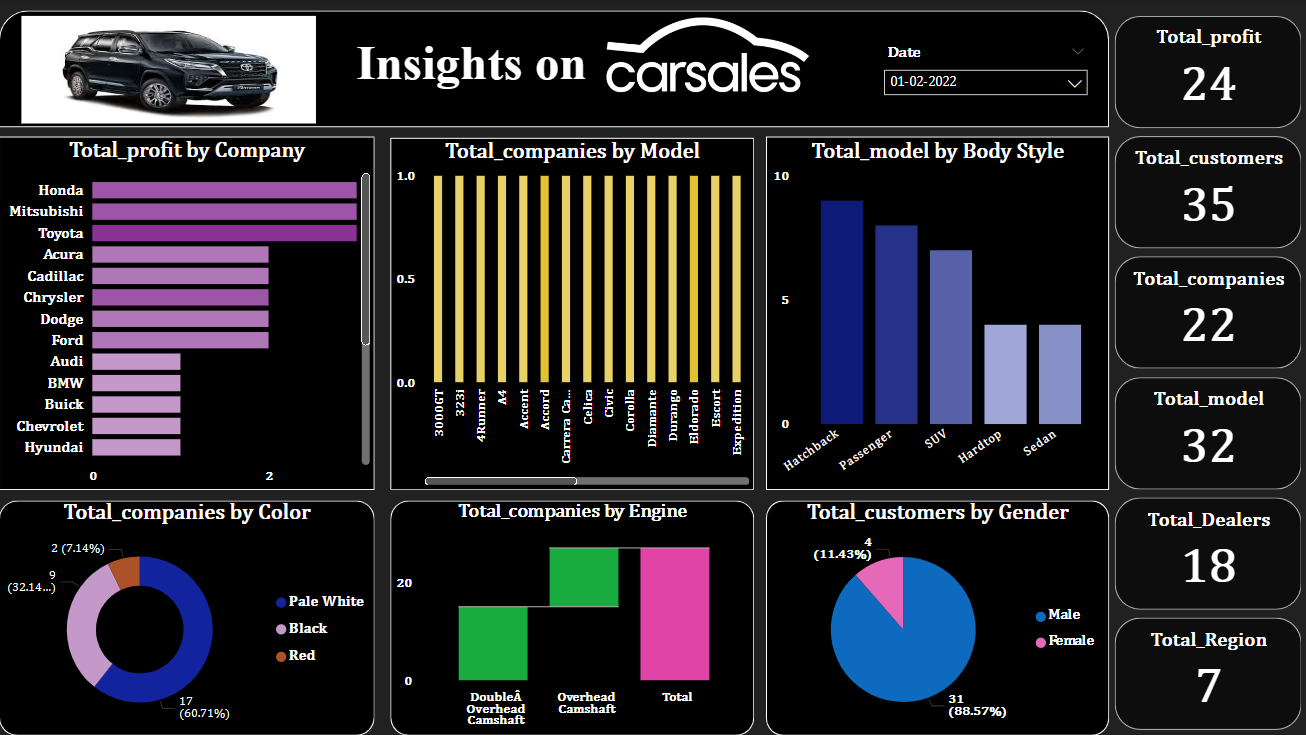

This screenshot's page, from the dashboard's own definition file:
{"tool":"powerbi","page":{"name":"Page 1","canvas":[1280,720],"ordinal":0},"visuals":[{"type":"cardVisual","fields":{"Data":["c_sales.Total_profit","c_sales.Total_customers","c_sales.Total_companies","c_sales.Total_model","c_sales.Total_Dealers","c_sales.Total_Region"]},"box":[1087,10.2,193.5,710.3],"z":0},{"type":"shape","box":[0,490.1,367.9,230.4],"z":1000},{"type":"shape","box":[751,490.1,336,230.4],"z":2000},{"type":"shape","box":[0,133.7,367.9,346.2],"z":3000},{"type":"donutChart","fields":{"Category":["c_sales.Color"],"Y":["c_sales.Total_companies"]},"box":[0,490.1,367.9,230.4],"z":4000},{"type":"shape","box":[0,10.2,1087,114.6],"z":5000},{"type":"textbox","box":[344.9,28,574.1,68.7],"z":6000},{"type":"barChart","fields":{"Category":["c_sales.Company"],"Y":["c_sales.Total_profit"]},"box":[0,134.9,367.9,344.9],"z":7000},{"type":"shape","box":[751,133.7,336,346.2],"z":8000},{"type":"shape","box":[383.1,134.9,356.4,344.9],"z":9000},{"type":"columnChart","fields":{"Category":["c_sales.Body Style"],"Y":["c_sales.Total_model"]},"box":[751,136.2,336,343.7],"z":10000},{"type":"pieChart","fields":{"Category":["c_sales.Gender"],"Y":["c_sales.Total_customers"]},"box":[751,490.1,336,230.4],"z":11000},{"type":"shape","box":[383.1,490.1,356.4,230.4],"z":12000},{"type":"waterfallChart","fields":{"Category":["c_sales.Engine"],"Y":["c_sales.Total_companies"]},"box":[383.1,490.1,356.4,230.4],"z":13000},{"type":"ribbonChart","fields":{"Category":["c_sales.Model"],"Y":["c_sales.Total_companies"]},"box":[383.1,136.2,356.4,343.7],"z":14000},{"type":"slicer","fields":{"Values":["c_sales.Date"]},"box":[856.6,36.9,218.9,61.1],"z":14001},{"type":"image","box":[589.3,10.2,208.7,86.6],"z":14002},{"type":"image","box":[16.5,10.2,299.1,115.8],"z":14003}]}

Visuals, with their boxes in screenshot pixels (x1, y1, x2, y2), scaled from the page's 1280x720 canvas onto the 1306x735 screenshot:
cardVisual - c_sales.Total_profit x c_sales.Total_customers: x1=1109 y1=10 x2=1305 y2=734
shape: x1=0 y1=500 x2=375 y2=734
shape: x1=766 y1=500 x2=1109 y2=734
shape: x1=0 y1=136 x2=375 y2=490
donutChart - c_sales.Color x c_sales.Total_companies: x1=0 y1=500 x2=375 y2=734
shape: x1=0 y1=10 x2=1109 y2=127
textbox: x1=352 y1=29 x2=938 y2=99
barChart - c_sales.Company x c_sales.Total_profit: x1=0 y1=138 x2=375 y2=490
shape: x1=766 y1=136 x2=1109 y2=490
shape: x1=391 y1=138 x2=755 y2=490
columnChart - c_sales.Body Style x c_sales.Total_model: x1=766 y1=139 x2=1109 y2=490
pieChart - c_sales.Gender x c_sales.Total_customers: x1=766 y1=500 x2=1109 y2=734
shape: x1=391 y1=500 x2=755 y2=734
waterfallChart - c_sales.Engine x c_sales.Total_companies: x1=391 y1=500 x2=755 y2=734
ribbonChart - c_sales.Model x c_sales.Total_companies: x1=391 y1=139 x2=755 y2=490
slicer - c_sales.Date: x1=874 y1=38 x2=1097 y2=100
image: x1=601 y1=10 x2=814 y2=99
image: x1=17 y1=10 x2=322 y2=129
